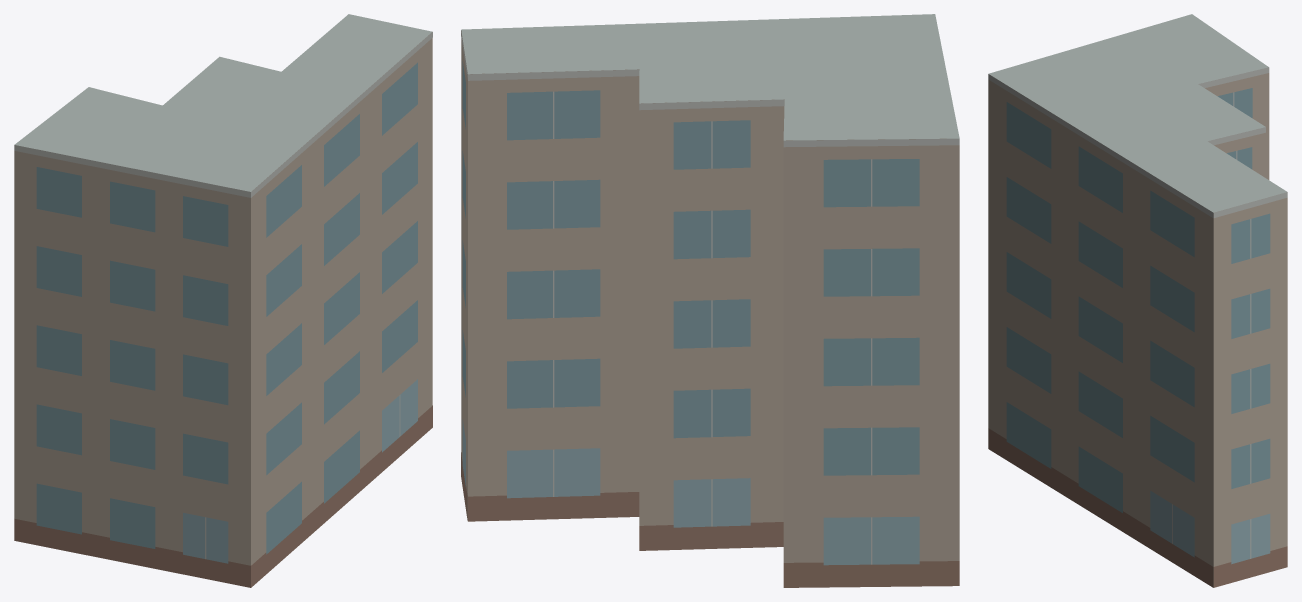
File: survey-upis-32863088.glb
The picture shows the model from 3 angles, left to right: view 1: azimuth 30°, elevation 25°; view 2: azimuth 150°, elevation 25°; view 3: azimuth 270°, elevation 25°; orthographic projection. The views are drawn at different scales.
Parts seen in each view (by area): view 1: survey-upis-32863088.tmp; view 2: survey-upis-32863088.tmp; view 3: survey-upis-32863088.tmp.
Part boxes in pixels (x1=…): survey-upis-32863088.tmp: x1=14, y1=14, x2=432, y2=587; survey-upis-32863088.tmp: x1=461, y1=14, x2=959, y2=587; survey-upis-32863088.tmp: x1=988, y1=14, x2=1287, y2=587.
Bounding box in the file's own units: 18.53 × 16.3 × 11.8.
